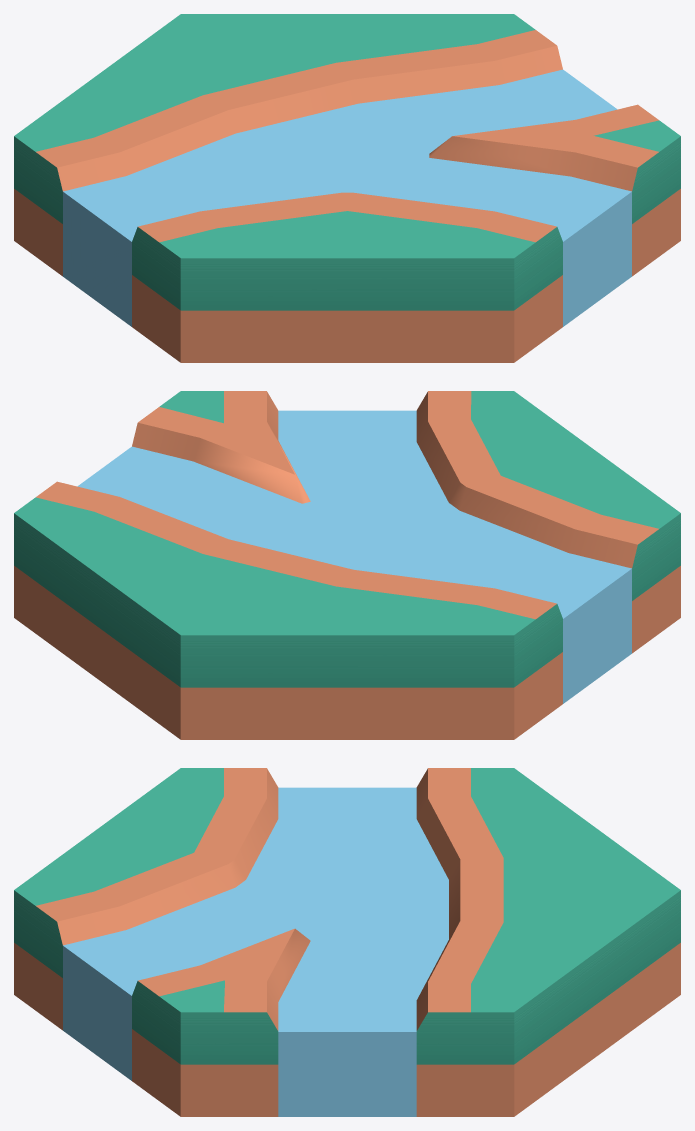
File: river-intersection-c.glb
3 renders of one model, top to bottom at view 1: azimuth 30°, elevation 25°; view 2: azimuth 150°, elevation 25°; view 3: azimuth 270°, elevation 25°, orthographic.
Visible parts, largest first — view 1: river-intersectionC; view 2: river-intersectionC; view 3: river-intersectionC.
Boxes of the visible parts, left/top/right/bottom form: river-intersectionC: left=14, top=14, right=680, bottom=362; river-intersectionC: left=14, top=391, right=680, bottom=739; river-intersectionC: left=14, top=768, right=680, bottom=1116.
Size of the model in its own units: 1 by 0.2 by 1.15.
Materials: 1 (1 with a texture image).
